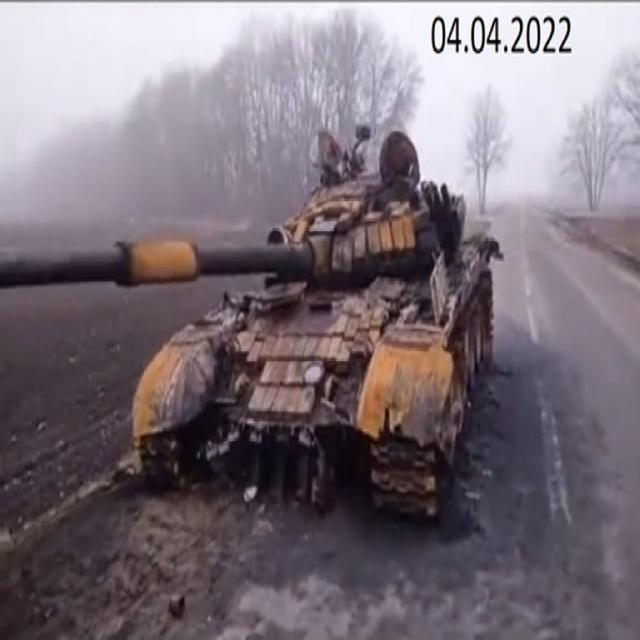TANK: (0, 122, 500, 529)
